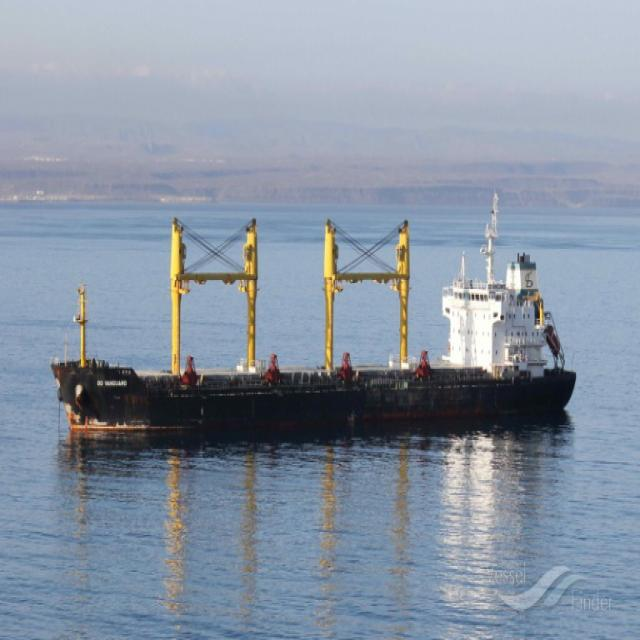Bulk Carrier: (51, 208, 577, 434)
